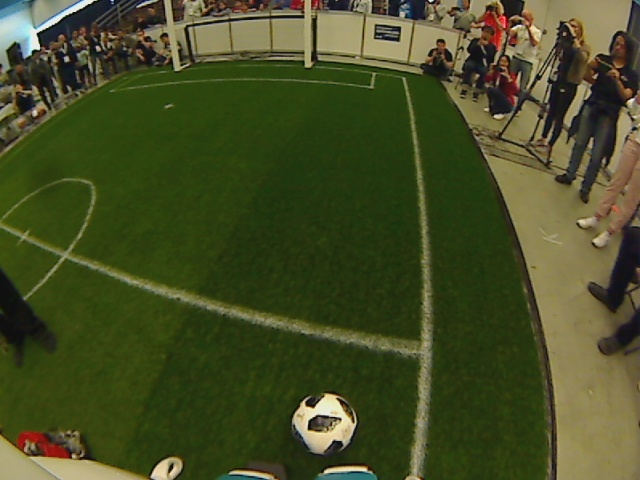ball: (291, 389, 359, 458)
